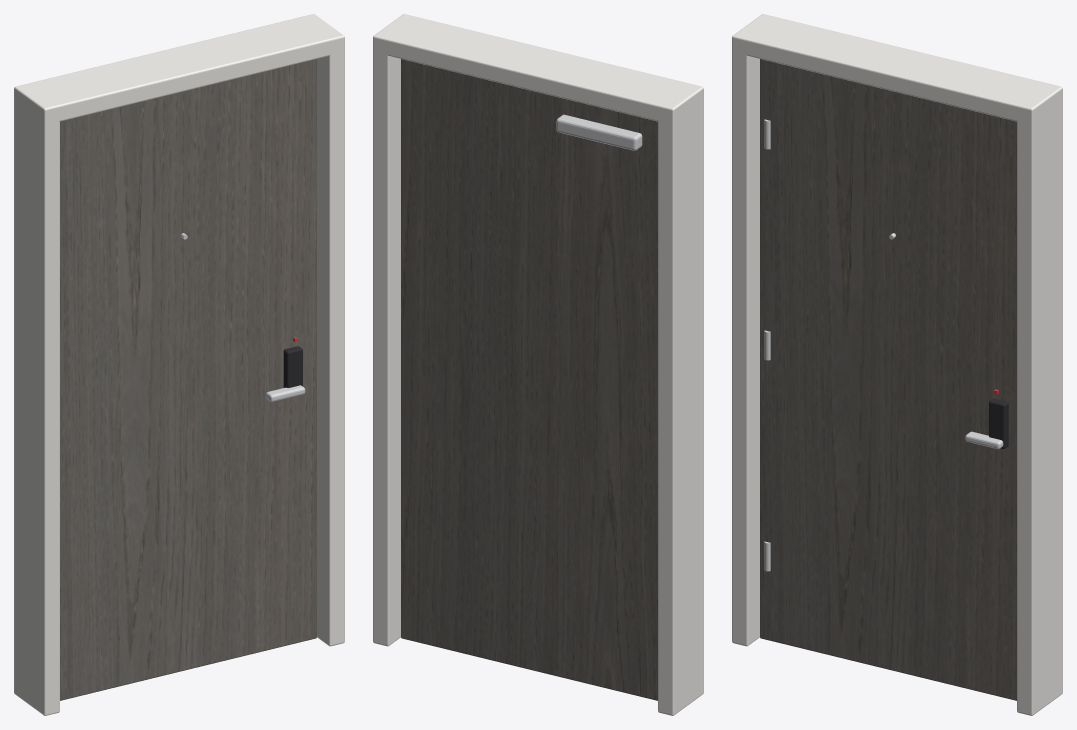
Rendered from hotel-room-door.glb.
3 views of the same model, side by side, from view 1: azimuth 30°, elevation 25°; view 2: azimuth 150°, elevation 25°; view 3: azimuth 330°, elevation 25° (orthographic).
Visible parts, largest first — view 1: leaf, jamb, jamb.001, head, lock; view 2: leaf, jamb, jamb.001, head, closer; view 3: leaf, jamb.001, jamb, head, lock.
Boxes of the visible parts, bbox=[...] form: leaf: bbox=[60, 59, 316, 700]; jamb: bbox=[14, 102, 59, 715]; jamb.001: bbox=[317, 40, 344, 646]; head: bbox=[14, 14, 344, 123]; lock: bbox=[283, 346, 302, 387]; leaf: bbox=[401, 59, 657, 700]; jamb: bbox=[658, 102, 703, 715]; jamb.001: bbox=[373, 40, 400, 646]; head: bbox=[373, 14, 703, 123]; closer: bbox=[556, 114, 642, 150]; leaf: bbox=[760, 59, 1016, 700]; jamb.001: bbox=[1017, 102, 1062, 715]; jamb: bbox=[732, 40, 759, 646]; head: bbox=[732, 14, 1062, 123]; lock: bbox=[989, 398, 1008, 448].
Bounding box in the file's own units: 1.12 × 2.16 × 0.2.
5 materials, 1 textured.
